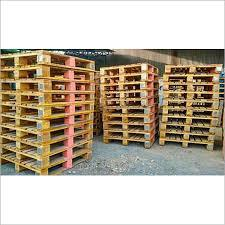wood: (2, 51, 96, 171), (164, 64, 219, 153), (102, 65, 159, 148)
